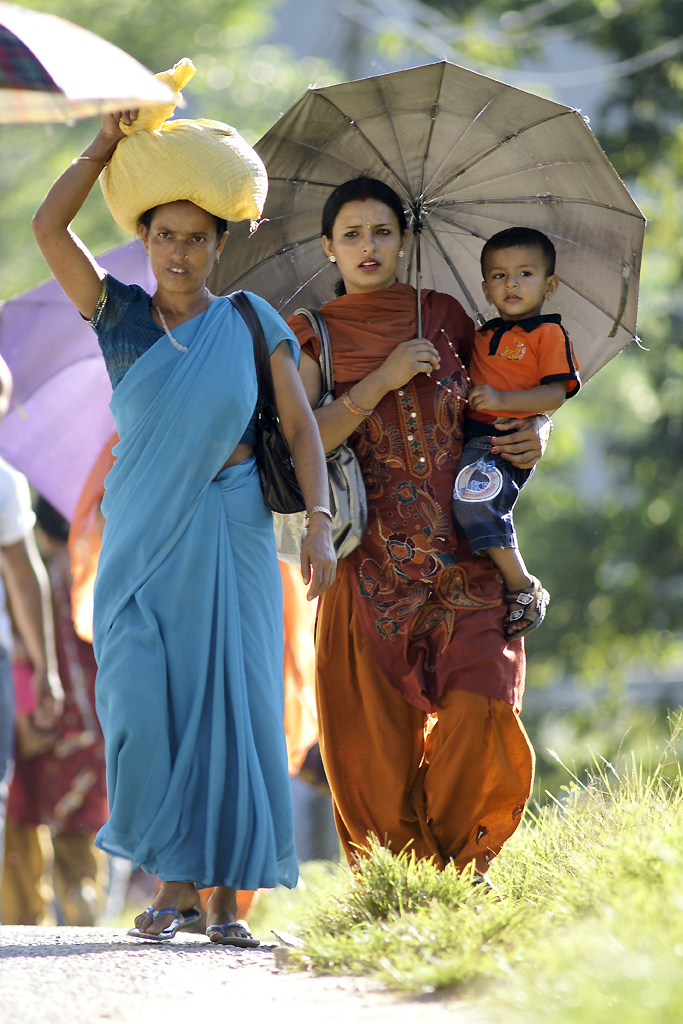human: (264, 56, 652, 938), (9, 53, 341, 959), (429, 217, 607, 644)
